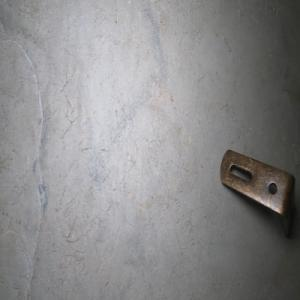MetalPart: (219, 147, 297, 239)
